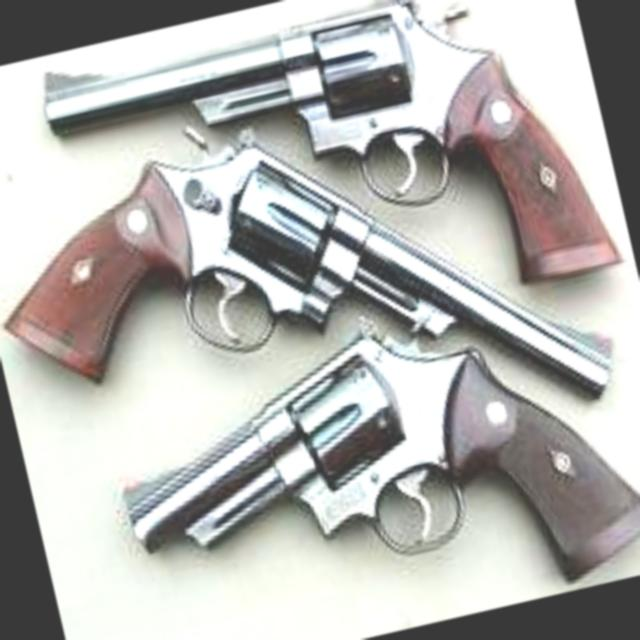revolver: (0, 0, 637, 415)
